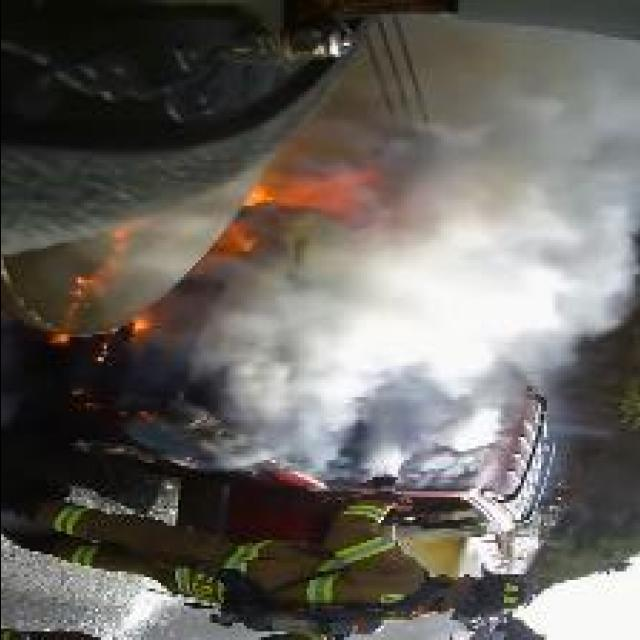Fire: (242, 174, 378, 217), (182, 222, 256, 278), (134, 317, 148, 334)
